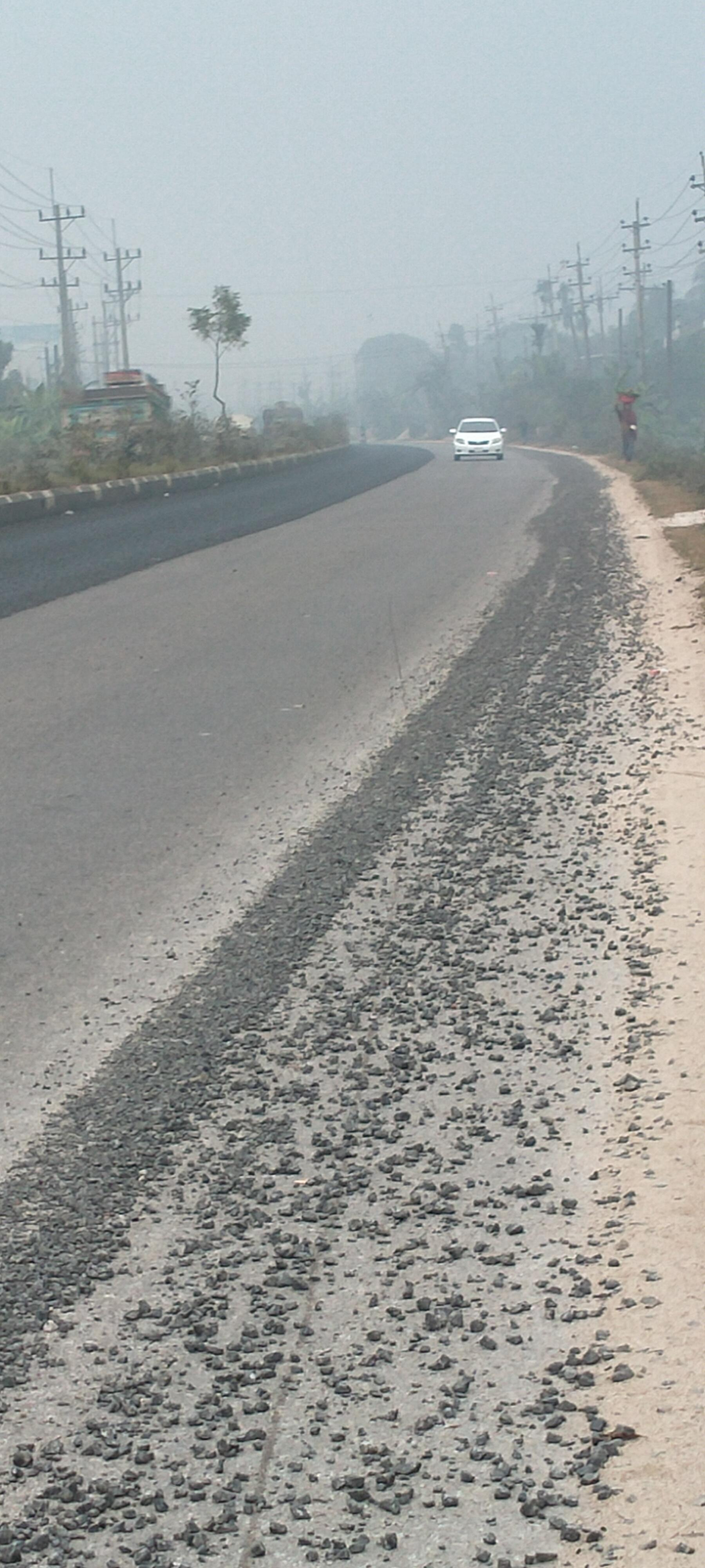Car: (426, 400, 525, 474)
Truck: (55, 354, 188, 465)
